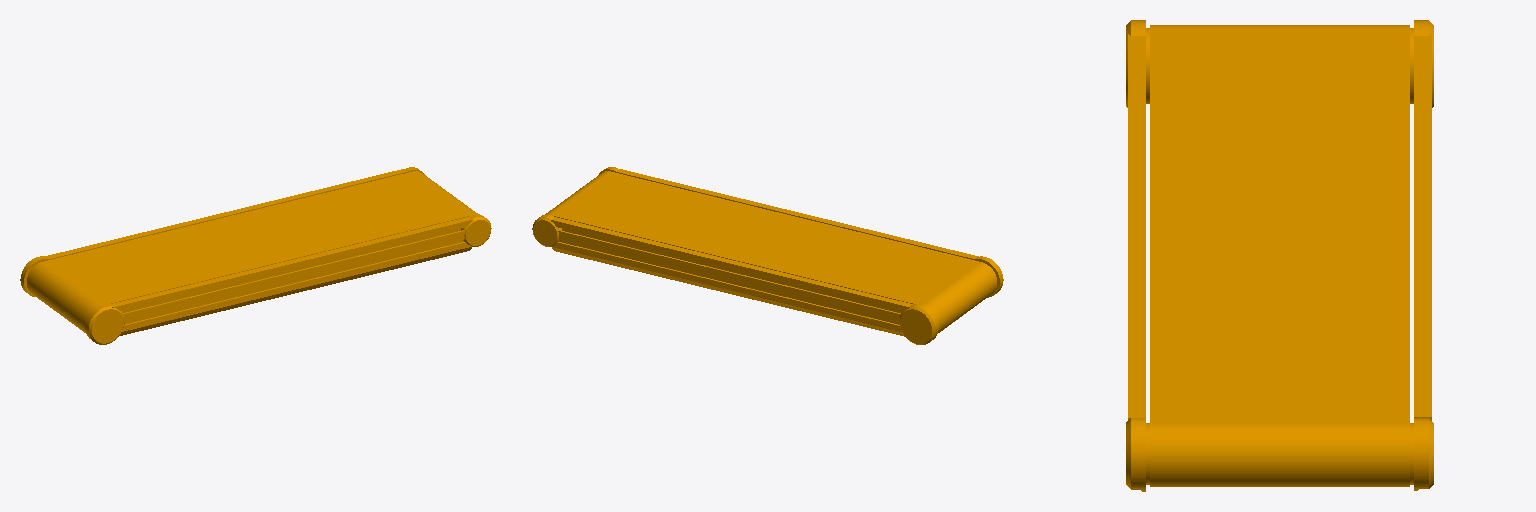
URDF robot description (table):
<?xml version="1.0"?>
<robot name="table">
  <link name="world">
    <visual>
      <origin rpy="0.0 0.0 0.0" xyz="-0.44 0.62 0.04"/>
      <geometry>
	      <mesh filename="package://rvc_dynamic_motion_controller_tradeshows/meshes/conveyor.obj" scale="0.1 0.1 0.1"/>
      </geometry>
    </visual>
  </link>
</robot>

--- What the picture shows (computed from the rendered views, not written in the file) ---
Views: 3 orthographic renders of the robot side by side, from view 1: azimuth 30°, elevation 25°; view 2: azimuth 150°, elevation 25°; view 3: azimuth 270°, elevation 25°.
Model table with 1 links and 0 joints (none), rooted at world, posed every joint at zero.
Visible links, largest first — view 1: world; view 2: world; view 3: world.
Link boxes in pixels (left/top/right/bottom): world: left=20, top=167, right=491, bottom=344; world: left=532, top=167, right=1003, bottom=344; world: left=1126, top=20, right=1433, bottom=491.
Bounding box of the posed robot: 1.01 × 0.305 × 0.09 m (x, y, z).
1 mesh visuals loaded from 1 distinct referenced files (1 OBJ).
